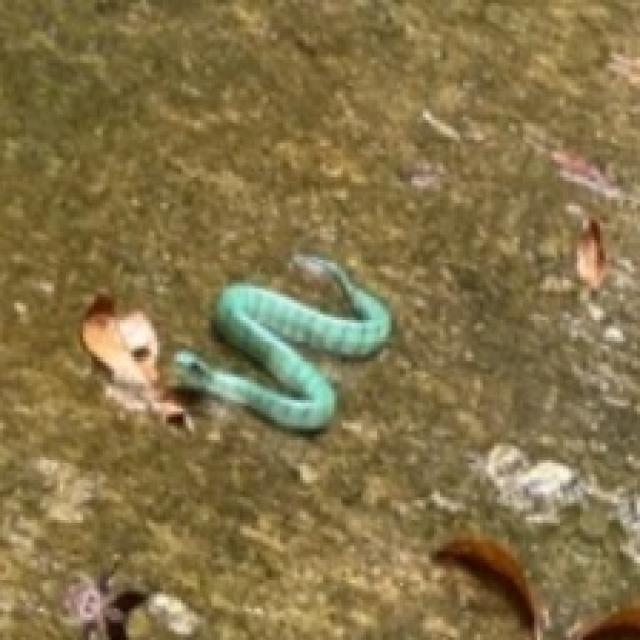north ph temple pitviper: (174, 254, 389, 429)
